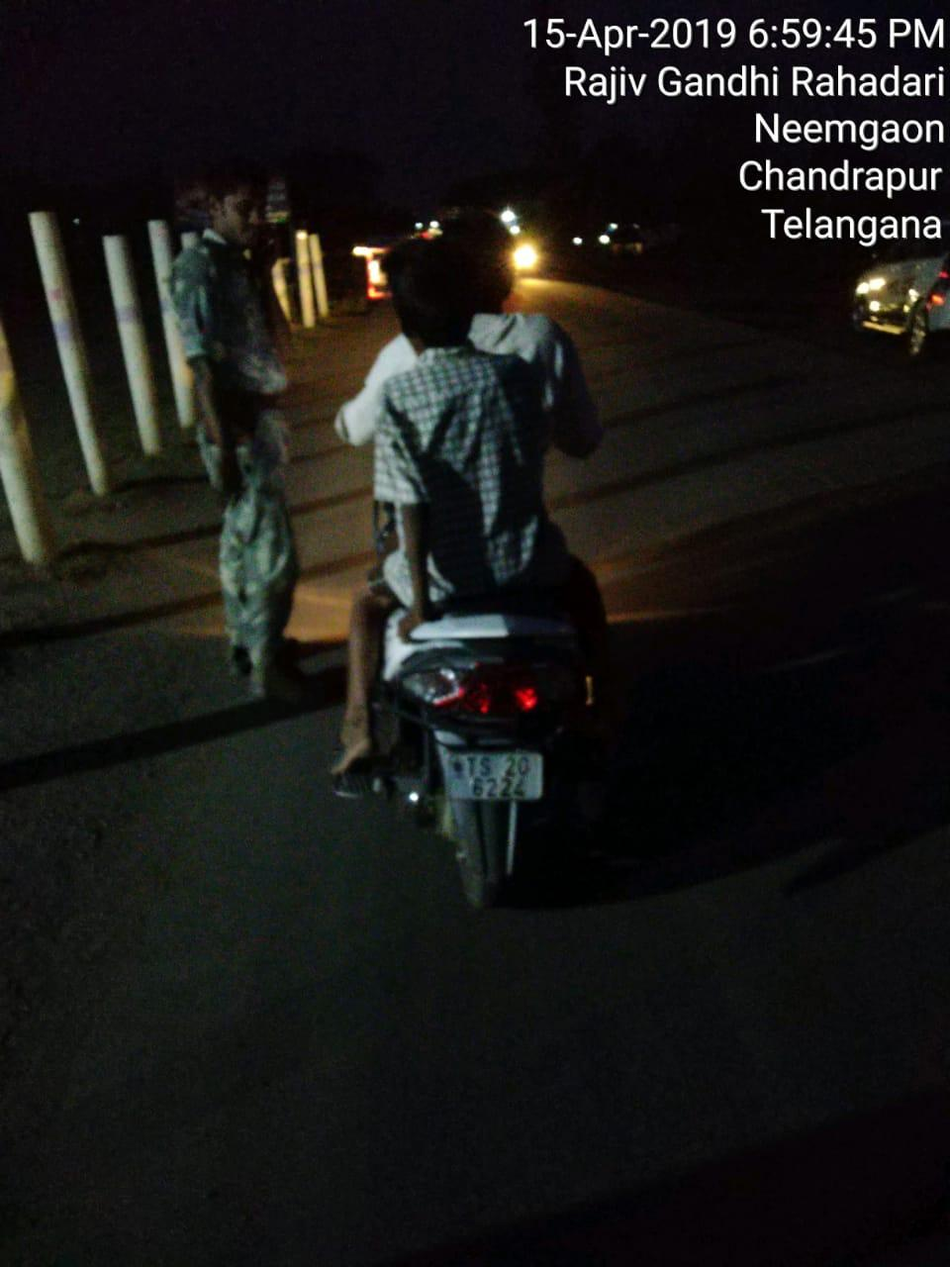plate: (398, 727, 584, 819)
